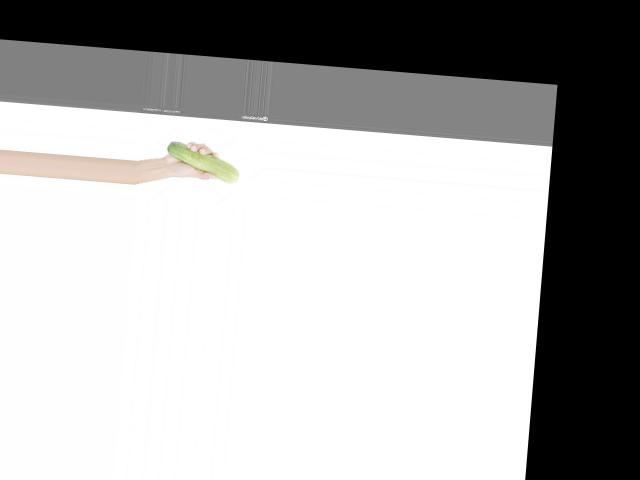cucumber: (164, 140, 240, 183)
